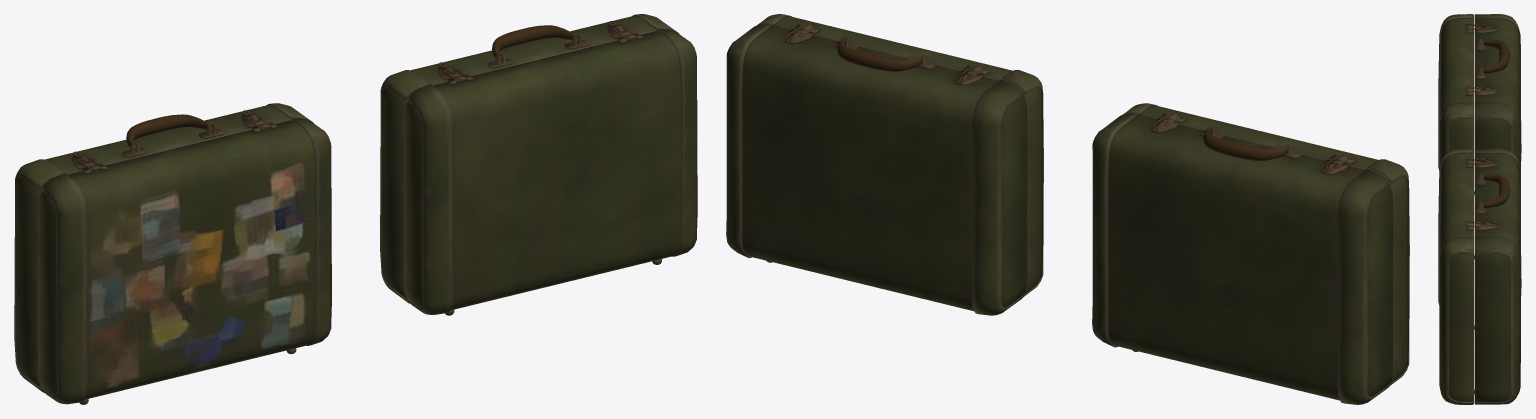
The model's file is suitcase.glb.
3 renders of one model, left to right at view 1: azimuth 30°, elevation 25°; view 2: azimuth 150°, elevation 25°; view 3: azimuth 270°, elevation 25°, orthographic. The views are drawn at different scales.
Parts seen in each view (by area): view 1: vintage_suitcase_02_top, vintage_suitcase_01_top, vintage_suitcase_01_bottom, vintage_suitcase_02_bottom, vintage_suitcase_02_handle, vintage_suitcase_01_handle; view 2: vintage_suitcase_01_bottom, vintage_suitcase_02_bottom, vintage_suitcase_01_top, vintage_suitcase_02_top, vintage_suitcase_01_handle, vintage_suitcase_02_handle; view 3: vintage_suitcase_01_bottom, vintage_suitcase_01_top, vintage_suitcase_02_bottom, vintage_suitcase_02_top, vintage_suitcase_01_handle, vintage_suitcase_02_handle, vintage_suitcase_01_clasp, vintage_suitcase_02_clasp.
Boxes of the visible parts, left/top/right/bottom form: vintage_suitcase_02_top: left=38, top=118, right=331, bottom=404; vintage_suitcase_01_top: left=404, top=29, right=697, bottom=315; vintage_suitcase_01_bottom: left=380, top=14, right=679, bottom=303; vintage_suitcase_02_bottom: left=14, top=103, right=313, bottom=392; vintage_suitcase_02_handle: left=126, top=114, right=212, bottom=150; vintage_suitcase_01_handle: left=492, top=25, right=578, bottom=60; vintage_suitcase_01_bottom: left=726, top=24, right=1027, bottom=315; vintage_suitcase_02_bottom: left=1092, top=113, right=1392, bottom=404; vintage_suitcase_01_top: left=756, top=14, right=1043, bottom=295; vintage_suitcase_02_top: left=1122, top=103, right=1409, bottom=385; vintage_suitcase_01_handle: left=837, top=38, right=923, bottom=71; vintage_suitcase_02_handle: left=1203, top=128, right=1288, bottom=160; vintage_suitcase_01_bottom: left=1474, top=148, right=1521, bottom=404; vintage_suitcase_01_top: left=1438, top=148, right=1474, bottom=404; vintage_suitcase_02_bottom: left=1474, top=14, right=1521, bottom=259; vintage_suitcase_02_top: left=1438, top=14, right=1474, bottom=258; vintage_suitcase_01_handle: left=1482, top=174, right=1509, bottom=207; vintage_suitcase_02_handle: left=1482, top=39, right=1509, bottom=73; vintage_suitcase_01_clasp: left=1465, top=159, right=1487, bottom=226; vintage_suitcase_02_clasp: left=1465, top=24, right=1487, bottom=91.
Bounding box in the file's own units: 1.61 × 0.5679 × 0.2387.
Materials: 2 (2 with a texture image).
